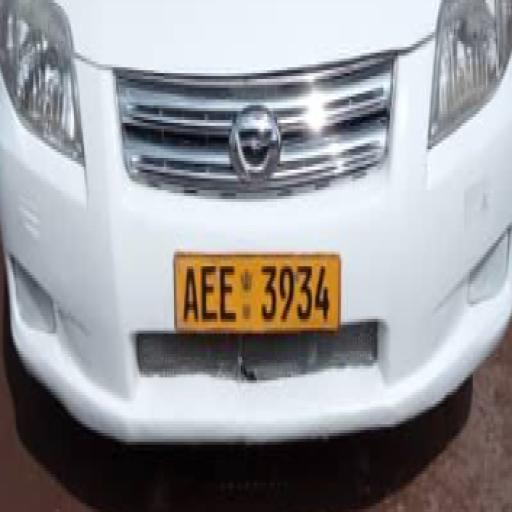number-plates: (173, 249, 336, 330)
